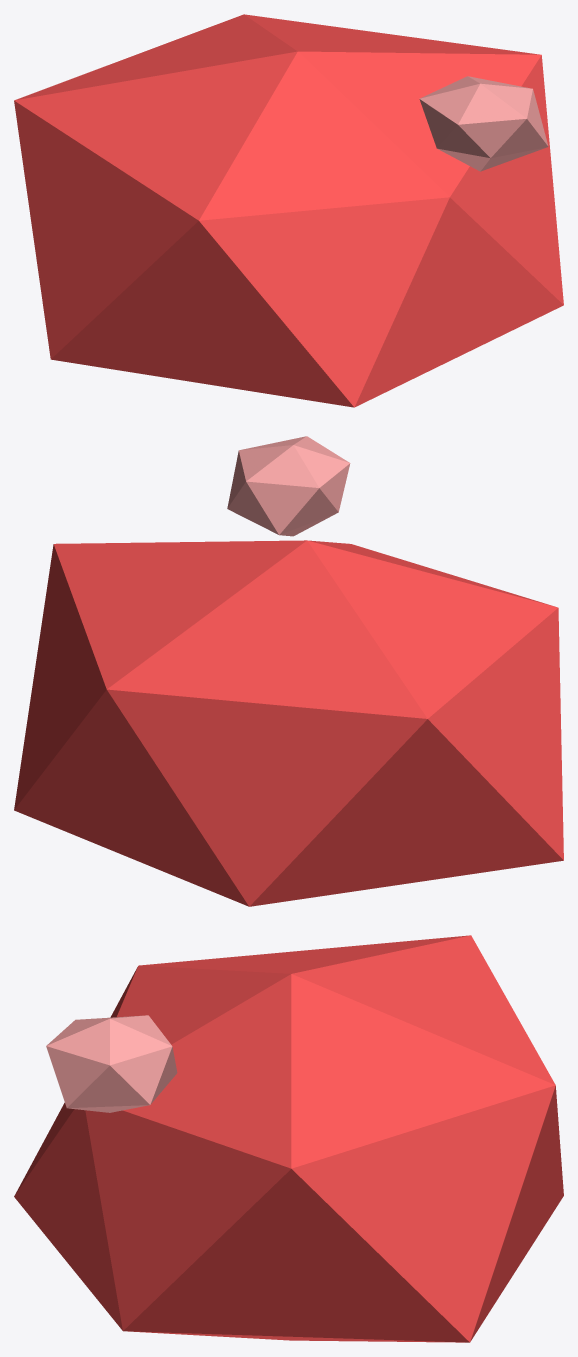
The model's file is Stone_Red.glb.
3 renders of one model, top to bottom at view 1: azimuth 30°, elevation 25°; view 2: azimuth 150°, elevation 25°; view 3: azimuth 270°, elevation 25°, orthographic. The views are drawn at different scales.
Visible parts, largest first — view 1: Stone_Red_Body, Stone_Red_Speck; view 2: Stone_Red_Body, Stone_Red_Speck; view 3: Stone_Red_Body, Stone_Red_Speck.
Part boxes in pixels (box(x1,y1,x2,y2)): Stone_Red_Body: box(14, 14, 563, 407); Stone_Red_Speck: box(419, 76, 548, 171); Stone_Red_Body: box(14, 540, 563, 906); Stone_Red_Speck: box(227, 436, 350, 536); Stone_Red_Body: box(14, 935, 563, 1342); Stone_Red_Speck: box(46, 1015, 177, 1112).
Bounding box in the file's own units: 0.1004 × 0.068 × 0.0909.
